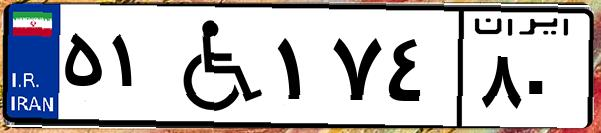0: (525, 38, 570, 115)
1: (270, 28, 330, 110), (110, 28, 158, 98)
4: (385, 28, 445, 110)
5: (57, 26, 110, 100)
7: (330, 28, 385, 110)
8: (475, 38, 525, 113)
ژ (معلولین و جانبازان): (158, 12, 270, 120)
